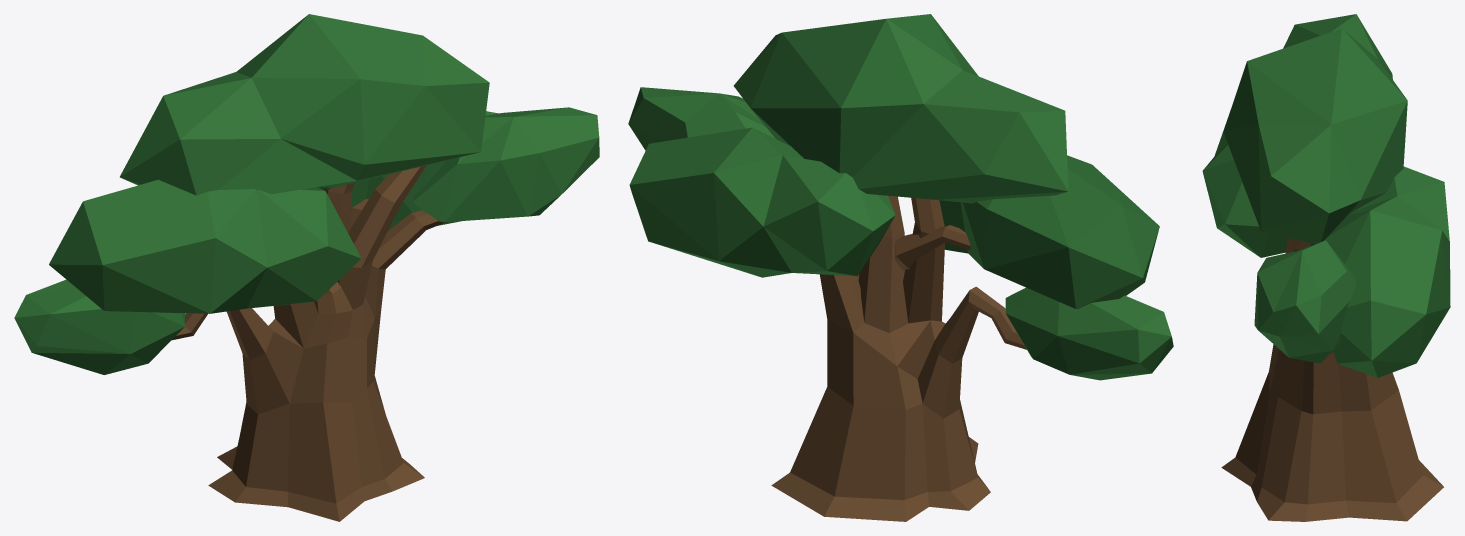
File: tree-baobab.glb
3 renders of one model, left to right at view 1: azimuth 30°, elevation 25°; view 2: azimuth 150°, elevation 25°; view 3: azimuth 270°, elevation 25°, orthographic.
Visible parts, largest first — view 1: tree-baobab; view 2: tree-baobab; view 3: tree-baobab.
Boxes of the visible parts, x1,y1,x2,y2 form: tree-baobab: (14,14,599,521); tree-baobab: (628,14,1173,521); tree-baobab: (1202,14,1450,521).
Size of the model in its own units: 8.1 by 6.37 by 3.15.
